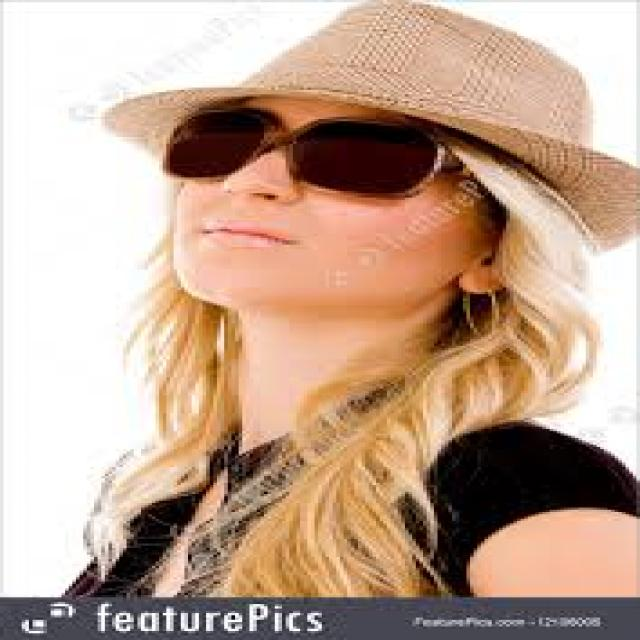hat: (90, 0, 639, 314)
